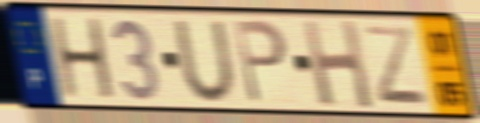3: (109, 15, 162, 104)
H: (299, 17, 377, 113), (47, 15, 119, 102)
P: (230, 17, 290, 107)
U: (170, 18, 241, 105)
Z: (361, 23, 432, 109)
